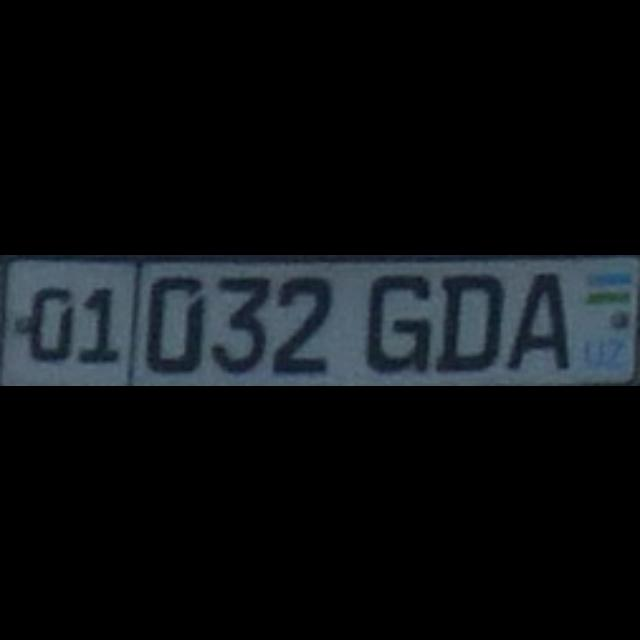0: (142, 272, 202, 371), (28, 284, 74, 360)
1: (74, 285, 116, 363)
2: (268, 274, 328, 374)
3: (208, 274, 268, 370)
A: (504, 270, 566, 368)
D: (435, 272, 501, 371)
G: (362, 272, 428, 372)
